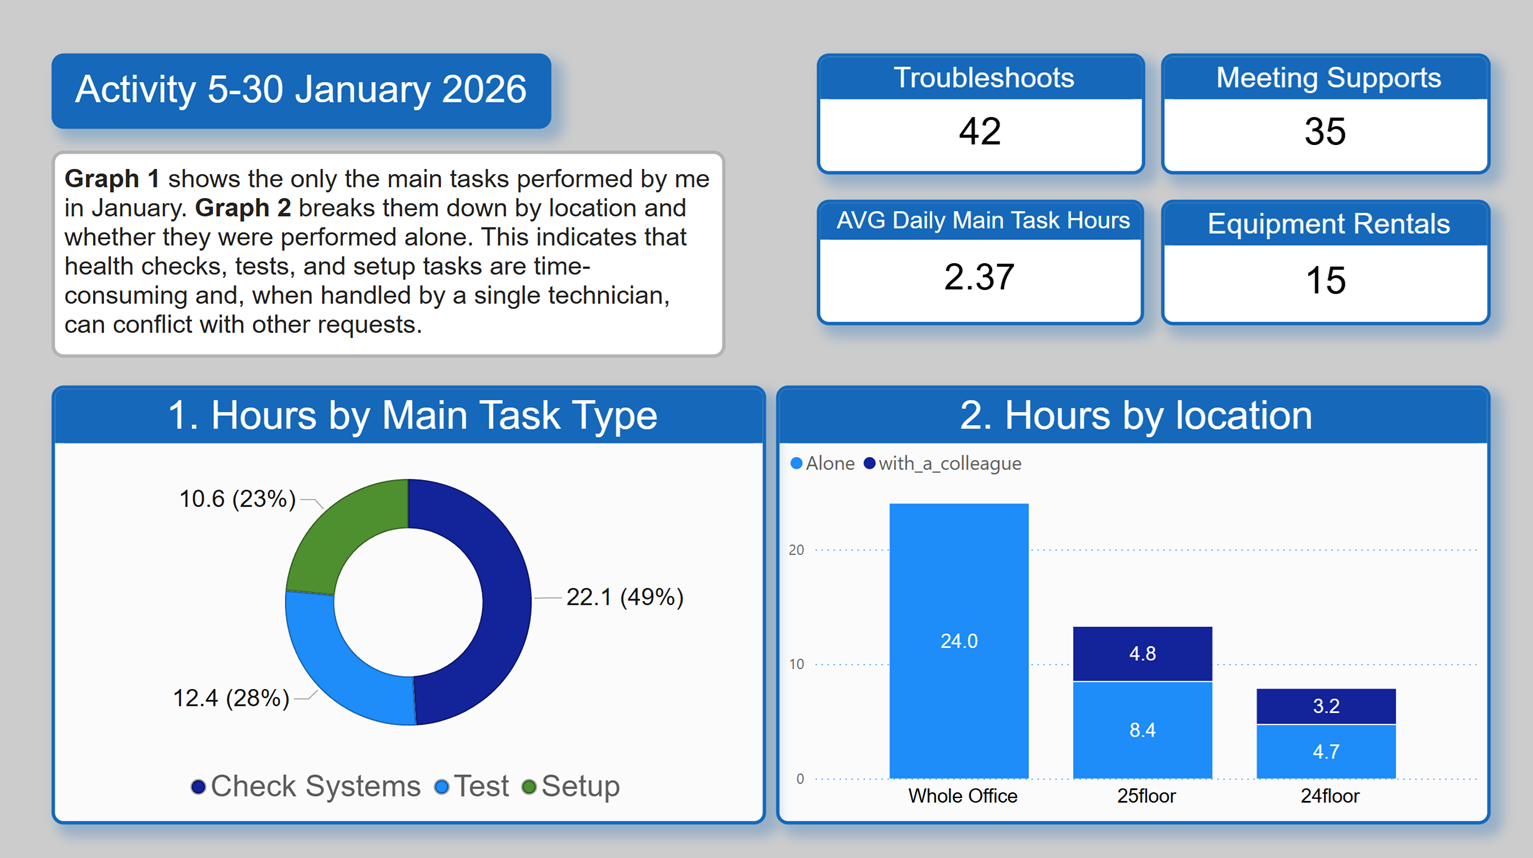

What the dashboard file says about the page in this screenshot:
{"tool":"powerbi","page":{"name":"Apostolos Main Tasks","canvas":[1280,720],"ordinal":0},"visuals":[{"type":"textbox","title":"Activity January 2026","box":[34.5,43.1,488.3,59.4],"z":0},{"type":"textbox","box":[34.5,122.5,513.1,196.3],"z":1000},{"type":"donutChart","title":"(1) Hours by Task Type","fields":{"Category":["apostolos_main_activities_2026.task_type"],"Y":["Sum(apostolos_main_activities_2026.Duration Hours)"]},"box":[43,360.3,552.6,317.3],"z":2000},{"type":"clusteredColumnChart","fields":{"Category":["meeting_trouble_rentals_2026.date.Variation.Date Hierarchy.Month"],"Y":["Sum(meeting_trouble_rentals_2026.troubleshoots)","Sum(meeting_trouble_rentals_2026.meeting_supports)","Sum(meeting_trouble_rentals_2026.Rentals)"]},"box":[829.1,46,405,272.8],"z":3000},{"type":"columnChart","title":"(2) Hours By Location","fields":{"Category":["apostolos_main_activities_2026.location"],"Series":["apostolos_main_activities_2026.alone_or_not"],"Y":["Sum(apostolos_main_activities_2026.Duration Hours)"]},"box":[681.5,360.3,552.6,317.3],"z":4000},{"type":"slicer","title":"Select Month","fields":{"Values":["apostolos_main_activities_2026.date.Variation.Date Hierarchy.Year","apostolos_main_activities_2026.date.Variation.Date Hierarchy.Month"]},"box":[566.8,46,233.6,135],"z":5000},{"type":"cardVisual","fields":{"Data":["apostolos_main_activities_2026.Avg Daily Task Hours"]},"box":[566.8,199.1,233.6,119.7],"z":6000}]}

Visuals, with their boxes in screenshot pixels (x1, y1, x2, y2), scaled from the page's 1280x720 canvas onto the 1533x858 screenshot:
"Activity January 2026" textbox: bbox=[41, 51, 626, 122]
textbox: bbox=[41, 146, 656, 380]
"(1) Hours by Task Type" donutChart: bbox=[51, 429, 713, 807]
clusteredColumnChart - meeting_trouble_rentals_2026.date.Variation.Date Hierarchy.Month x Sum(meeting_trouble_rentals_2026.troubleshoots): bbox=[993, 55, 1478, 380]
"(2) Hours By Location" columnChart: bbox=[816, 429, 1478, 807]
"Select Month" slicer: bbox=[679, 55, 959, 216]
cardVisual - apostolos_main_activities_2026.Avg Daily Task Hours: bbox=[679, 237, 959, 380]
